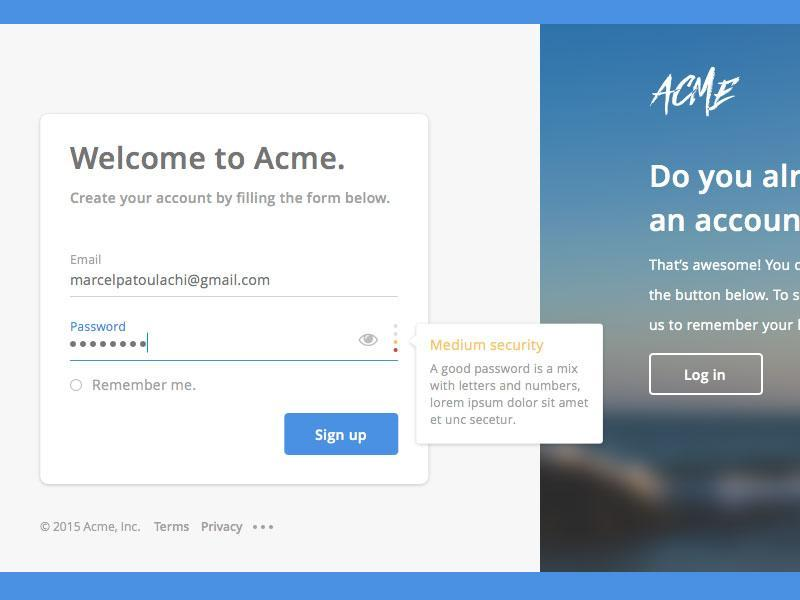button: (284, 414, 401, 456), (649, 354, 766, 394)
icon: (253, 520, 278, 535), (360, 332, 380, 348)
label: (60, 141, 351, 179), (69, 190, 393, 207), (92, 379, 198, 395), (68, 320, 128, 335), (201, 520, 245, 535), (69, 254, 104, 267), (155, 522, 191, 533)
radio: (71, 379, 86, 394)
